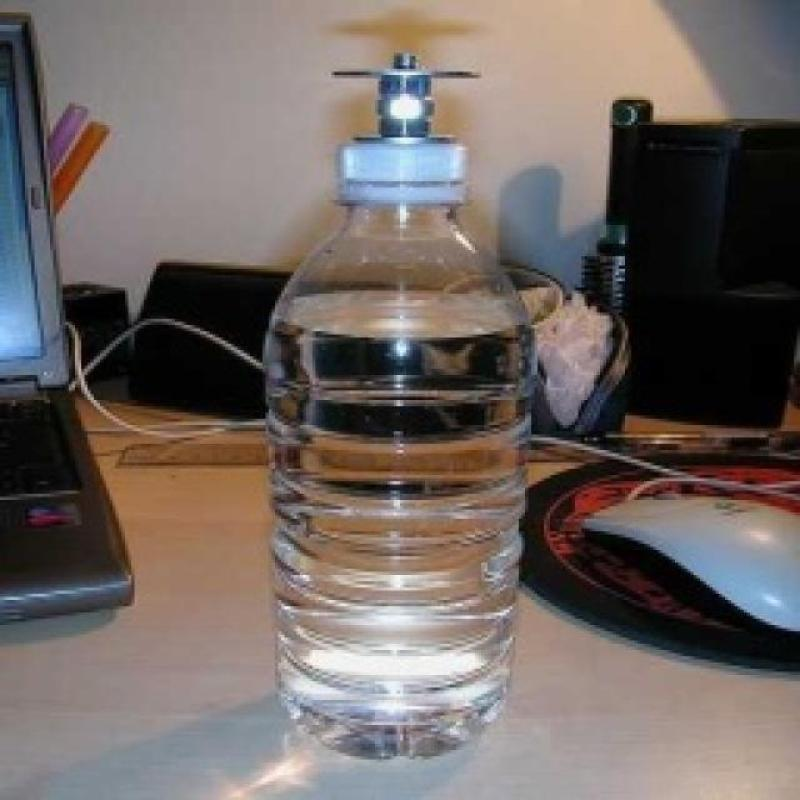botella: (258, 141, 530, 757)
